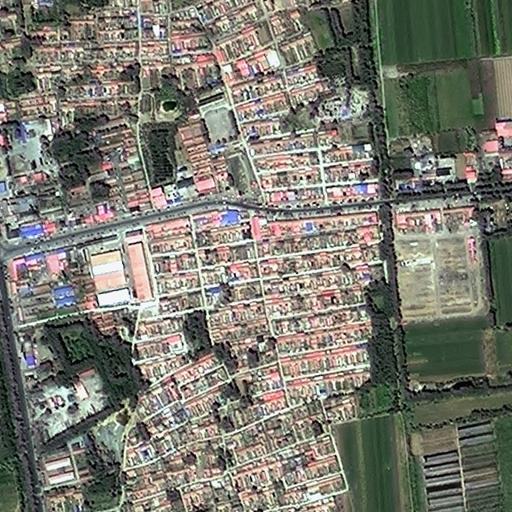school: (196, 86, 241, 145)
